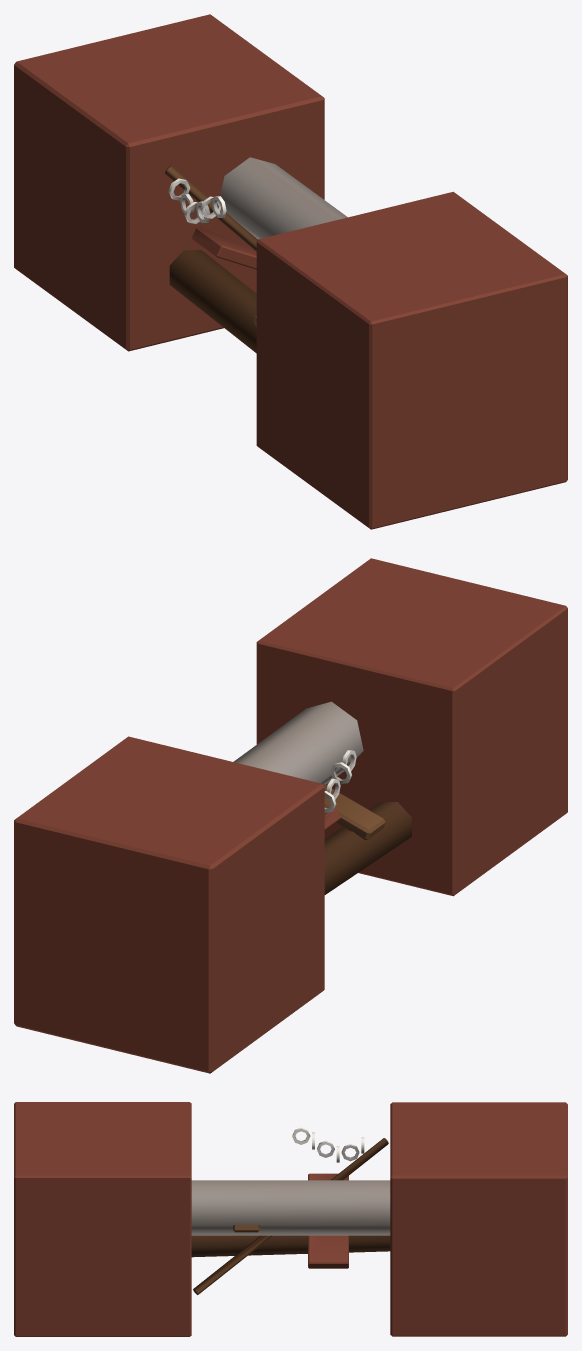
File: R4C_STRUT_STANDARD_LOD1.fbx
3 renders of one model, top to bottom at view 1: azimuth 30°, elevation 25°; view 2: azimuth 150°, elevation 25°; view 3: azimuth 270°, elevation 25°, orthographic. The views are drawn at different scales.
Visible parts, largest first — view 1: R4C_STRUT_STANDARD_LOD1; view 2: R4C_STRUT_STANDARD_LOD1; view 3: R4C_STRUT_STANDARD_LOD1.
Part boxes in pixels (<box>): R4C_STRUT_STANDARD_LOD1: <box>14,14,567,529</box>; R4C_STRUT_STANDARD_LOD1: <box>14,558,567,1073</box>; R4C_STRUT_STANDARD_LOD1: <box>14,1102,567,1336</box>.
Size of the model in its own units: 0.52 by 0.52 by 1.62.
